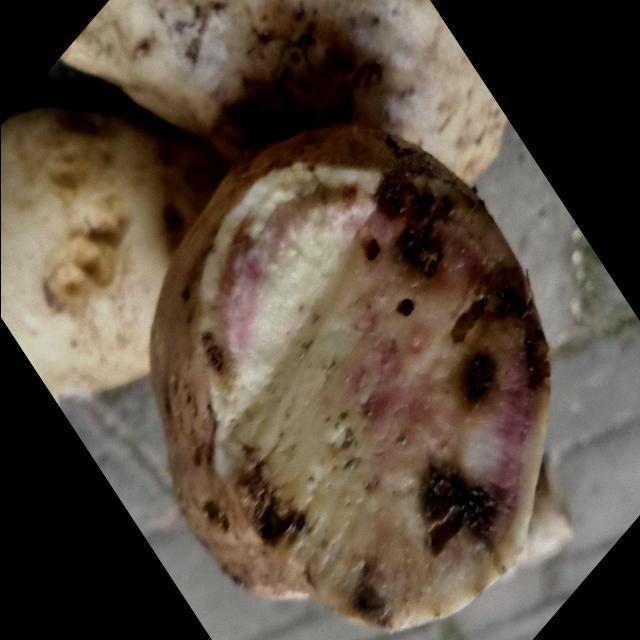Sick Sweet Potato_Tuber Rot: (200, 137, 549, 628)
